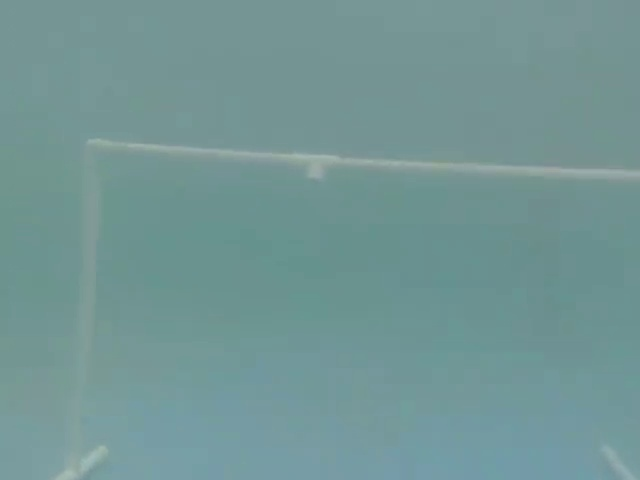gate: (59, 127, 640, 468)
